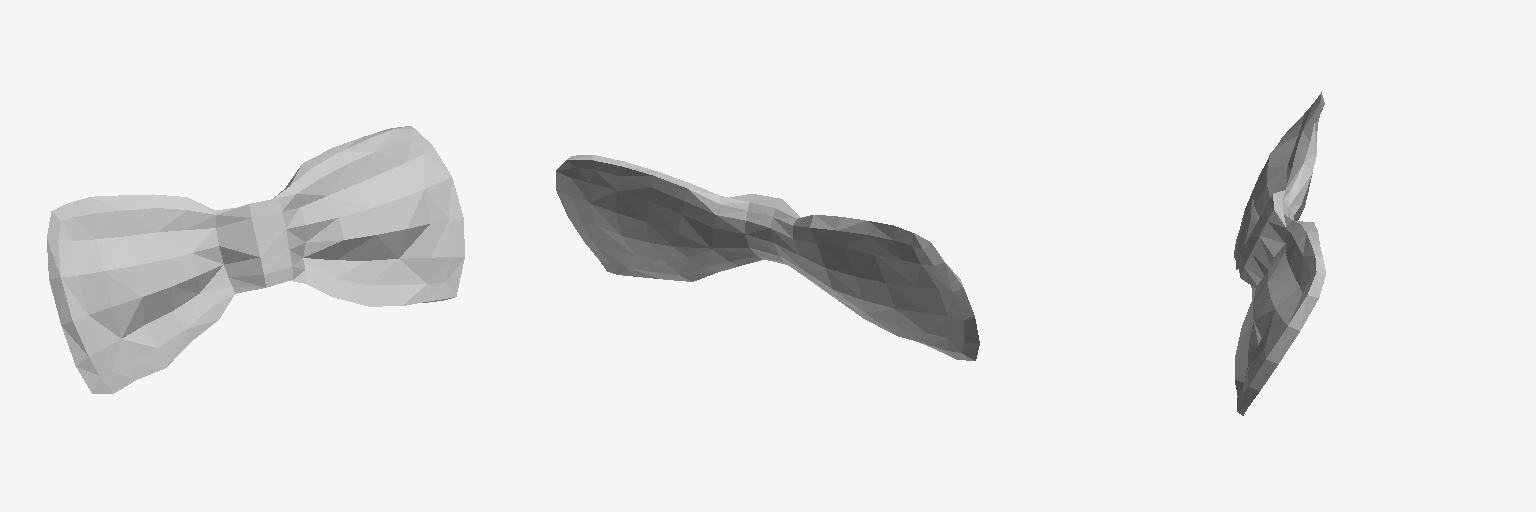
Rendered from Bowtie_Model.OBJ.
3 renders of one model, left to right at view 1: azimuth 30°, elevation 25°; view 2: azimuth 150°, elevation 25°; view 3: azimuth 270°, elevation 25°, orthographic.
Visible parts, largest first — view 1: Group1; view 2: Group1; view 3: Group1.
Boxes of the visible parts, x1=… form: Group1: x1=47, y1=126, x2=464, y2=393; Group1: x1=556, y1=155, x2=979, y2=360; Group1: x1=1234, y1=92, x2=1325, y2=415.
Bounding box in the file's own units: 0.2355 × 0.0898 × 0.0471.